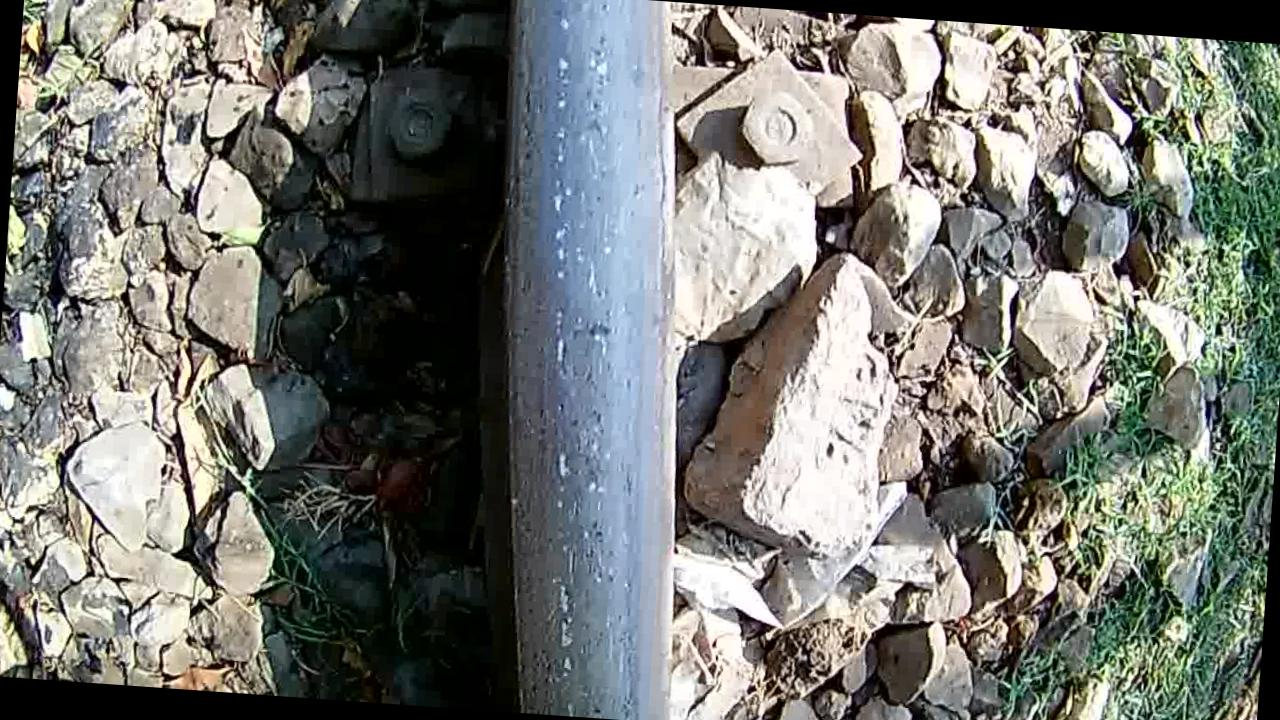clip_missing: (451, 0, 722, 720)
